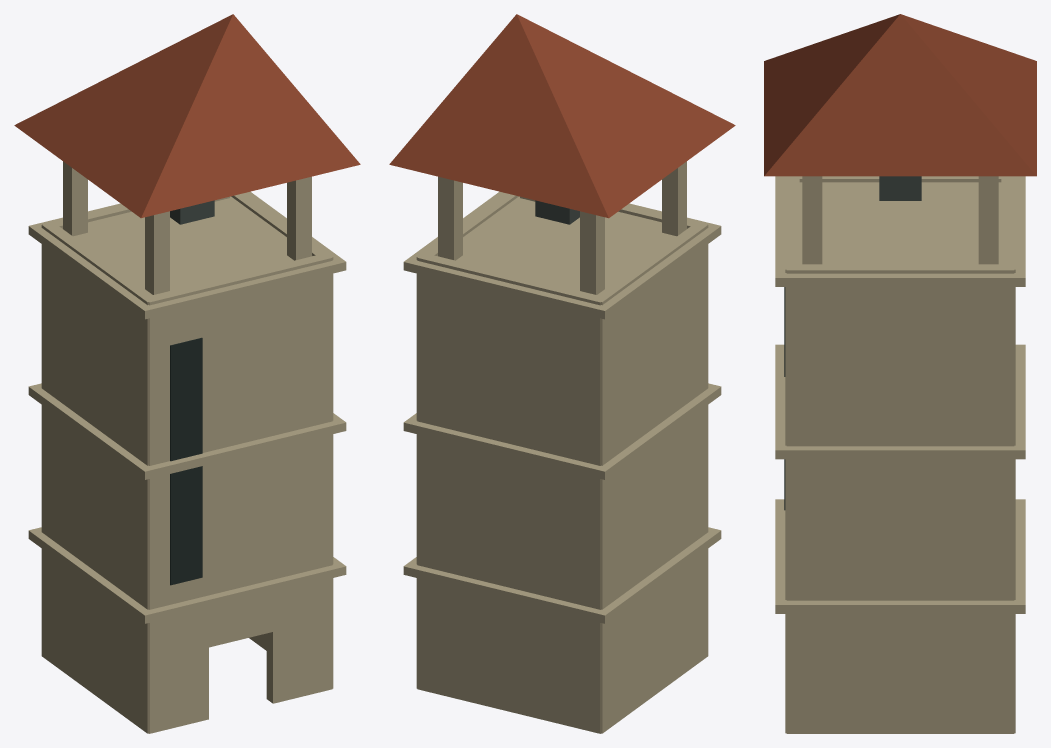
The model's file is coastal_tower.glb.
3 views of the same model, side by side, from view 1: azimuth 30°, elevation 25°; view 2: azimuth 150°, elevation 25°; view 3: azimuth 270°, elevation 25° (orthographic). The views are drawn at different scales.
Visible parts, largest first — view 1: WALL_tower, spire, WALL_tower_front.001, WALL_tower_lintel, WALL_tower_front, stone cornice.002, blackened tower scar, stone cornice, stone cornice.001, bell pillar.003, bell pillar.001, WALL_tower.001 (+2 smaller); view 2: WALL_tower_back, WALL_tower, spire, stone cornice.002, stone cornice, stone cornice.001, bell pillar.002, bell pillar, WALL_tower.001, bell pillar.001, bell; view 3: WALL_tower.001, spire, stone cornice.002, stone cornice, stone cornice.001, WALL_tower_back, bell pillar.002, bell pillar.003, WALL_tower_front.001, bell, WALL_tower, WALL_tower_lintel.
Boxes of the visible parts, x1,y1,x2,y2 form: WALL_tower: (41, 222, 158, 733); spire: (14, 14, 360, 218); WALL_tower_front.001: (266, 253, 332, 703); WALL_tower_lintel: (202, 267, 272, 647); WALL_tower_front: (148, 283, 208, 733); stone cornice.002: (28, 191, 346, 319); blackened tower scar: (170, 337, 202, 585); stone cornice: (28, 527, 346, 623); stone cornice.001: (28, 383, 346, 479); bell pillar.003: (287, 176, 311, 260); bell pillar.001: (145, 211, 169, 294); WALL_tower.001: (231, 193, 333, 688); WALL_tower_back: (417, 253, 601, 733); WALL_tower: (591, 222, 708, 733); spire: (389, 14, 735, 218); stone cornice.002: (403, 191, 721, 319); stone cornice: (403, 527, 721, 623); stone cornice.001: (403, 383, 721, 479); bell pillar.002: (438, 176, 462, 260); bell pillar: (580, 211, 604, 294); WALL_tower.001: (416, 193, 518, 688); bell pillar.001: (662, 161, 686, 236); bell: (535, 200, 579, 224); WALL_tower.001: (786, 264, 1014, 733); spire: (764, 14, 1036, 176); stone cornice.002: (775, 176, 1025, 286); stone cornice: (775, 499, 1025, 613); stone cornice.001: (775, 344, 1025, 459); WALL_tower_back: (1001, 176, 1015, 733); bell pillar.002: (978, 176, 998, 264); bell pillar.003: (802, 176, 822, 264); WALL_tower_front.001: (785, 238, 799, 733); bell: (879, 176, 921, 200); WALL_tower: (799, 176, 1001, 182); WALL_tower_lintel: (785, 205, 799, 238).
Size of the model in its own units: 9.6 by 27 by 9.6.
